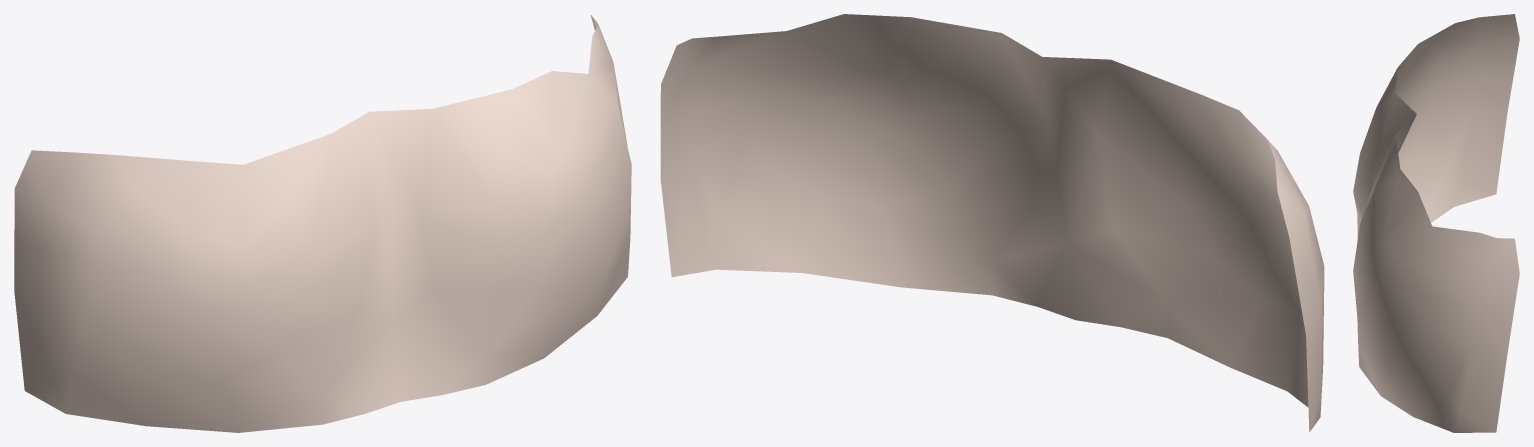
File: Anna sukumizu onamae.fbx
3 renders of one model, left to right at view 1: azimuth 30°, elevation 25°; view 2: azimuth 150°, elevation 25°; view 3: azimuth 270°, elevation 25°, orthographic. The views are drawn at different scales.
Parts seen in each view (by area): view 1: onamae; view 2: onamae; view 3: onamae.
Boxes of the visible parts, box(x1,y1,x2,y2) form: onamae: box(14, 14, 631, 432); onamae: box(660, 14, 1324, 432); onamae: box(1353, 14, 1519, 432).
Bounding box in the file's own units: 13.28 × 5.67 × 3.88.
